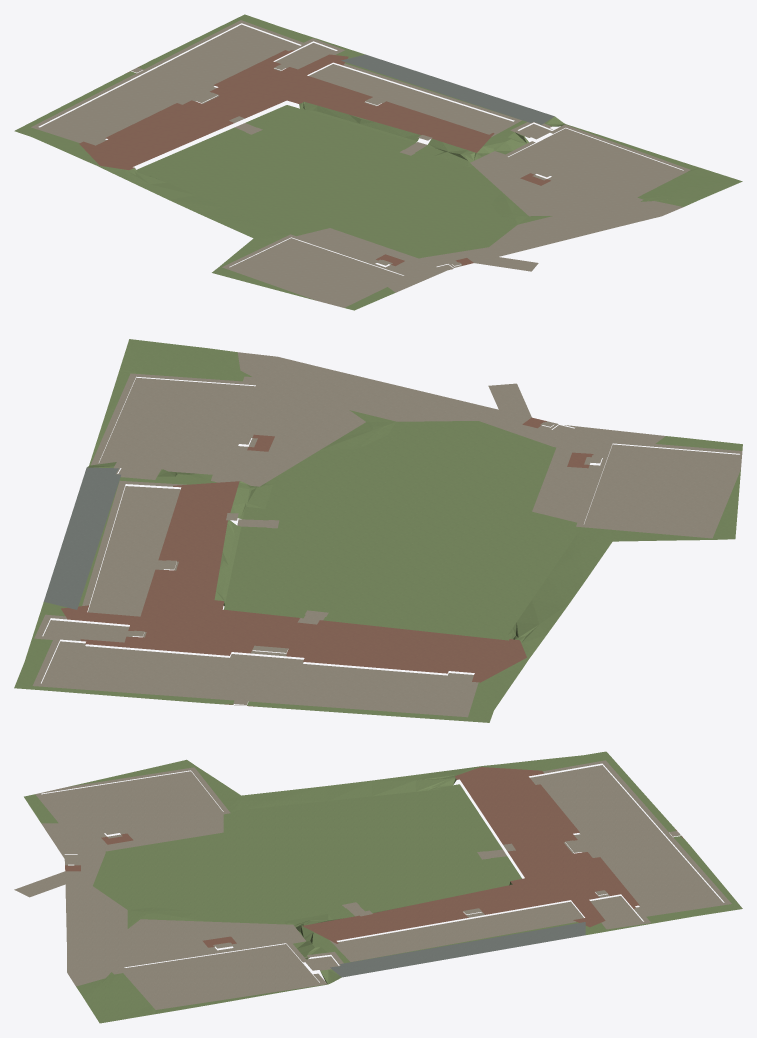
3 views of the same model, one above another, from view 1: azimuth 30°, elevation 25°; view 2: azimuth 150°, elevation 25°; view 3: azimuth 270°, elevation 25° (orthographic). The views are drawn at different scales.
Visible parts, largest first — view 1: surface_shared-field, surface_school-garden-ground, surface_underbuilding-main, surface_main-garden-apron, surface_underbuilding-neulhaenuri, surface_underbuilding-gym, surface_neul-front-walk, surface_south-entry-plaza, surface_annex-front-apron, surface_underbuilding-annex, surface_annex-east-parking, surface_gym-east-walk (+8 smaller); view 2: surface_shared-field, surface_school-garden-ground, surface_underbuilding-main, surface_main-garden-apron, surface_underbuilding-neulhaenuri, surface_underbuilding-gym, surface_neul-front-walk, surface_south-entry-plaza, surface_annex-front-apron, surface_underbuilding-annex, surface_annex-east-parking, surface_gym-east-walk (+8 smaller); view 3: surface_shared-field, surface_school-garden-ground, surface_underbuilding-main, surface_main-garden-apron, surface_underbuilding-neulhaenuri, surface_underbuilding-gym, surface_neul-front-walk, surface_south-entry-plaza, surface_annex-front-apron, surface_underbuilding-annex, surface_annex-east-parking, surface_gym-east-walk (+8 smaller).
Part boxes in pixels (x1,y1,x2,y2): surface_shared-field: (151,115,509,258); surface_school-garden-ground: (14,14,742,310); surface_underbuilding-main: (40,24,299,145); surface_main-garden-apron: (79,50,348,170); surface_underbuilding-neulhaenuri: (508,128,682,199); surface_underbuilding-gym: (230,238,402,306); surface_neul-front-walk: (470,151,643,216); surface_south-entry-plaza: (385,201,683,292); surface_annex-front-apron: (284,77,494,152); surface_underbuilding-annex: (309,64,512,134); surface_annex-east-parking: (341,54,554,124); surface_gym-east-walk: (296,228,449,284); surface_shared-field: (251,422,578,634); surface_school-garden-ground: (14,339,742,722); surface_underbuilding-main: (41,641,473,713); surface_main-garden-apron: (61,600,526,682); surface_underbuilding-neulhaenuri: (99,377,255,472); surface_underbuilding-gym: (584,444,739,534); surface_neul-front-walk: (211,376,365,486); surface_south-entry-plaza: (237,352,665,447); surface_annex-front-apron: (141,481,239,614); surface_underbuilding-annex: (88,486,180,616); surface_annex-east-parking: (43,467,120,609); surface_gym-east-walk: (532,425,632,522); surface_shared-field: (97,789,501,923); surface_school-garden-ground: (24,751,742,1023); surface_underbuilding-main: (530,765,722,914); surface_main-garden-apron: (455,767,639,927); surface_underbuilding-neulhaenuri: (125,944,319,1006); surface_underbuilding-gym: (41,771,222,836); surface_neul-front-walk: (93,919,305,974); surface_south-entry-plaza: (41,823,127,986); surface_annex-front-apron: (303,879,564,943); surface_underbuilding-annex: (338,901,583,958); surface_annex-east-parking: (330,922,585,977); surface_gym-east-walk: (49,814,223,858).
Bounding box in the file's own units: 145 × 1.55 × 167.
4 materials, 4 textured.
